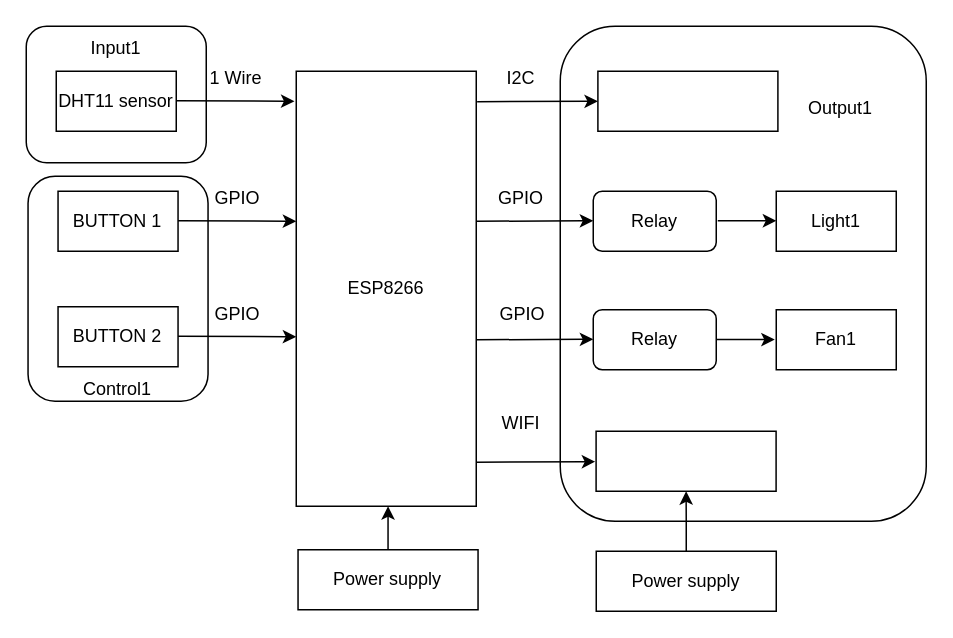
Some shapes in this 953 by 638 pixel diagram are drawn without their labels. Here are the shapes that lost their labels. From the top down, the box of each, then its label:
(596, 70, 778, 131): OLED 0.96 inch
(595, 430, 776, 491): ESP32
